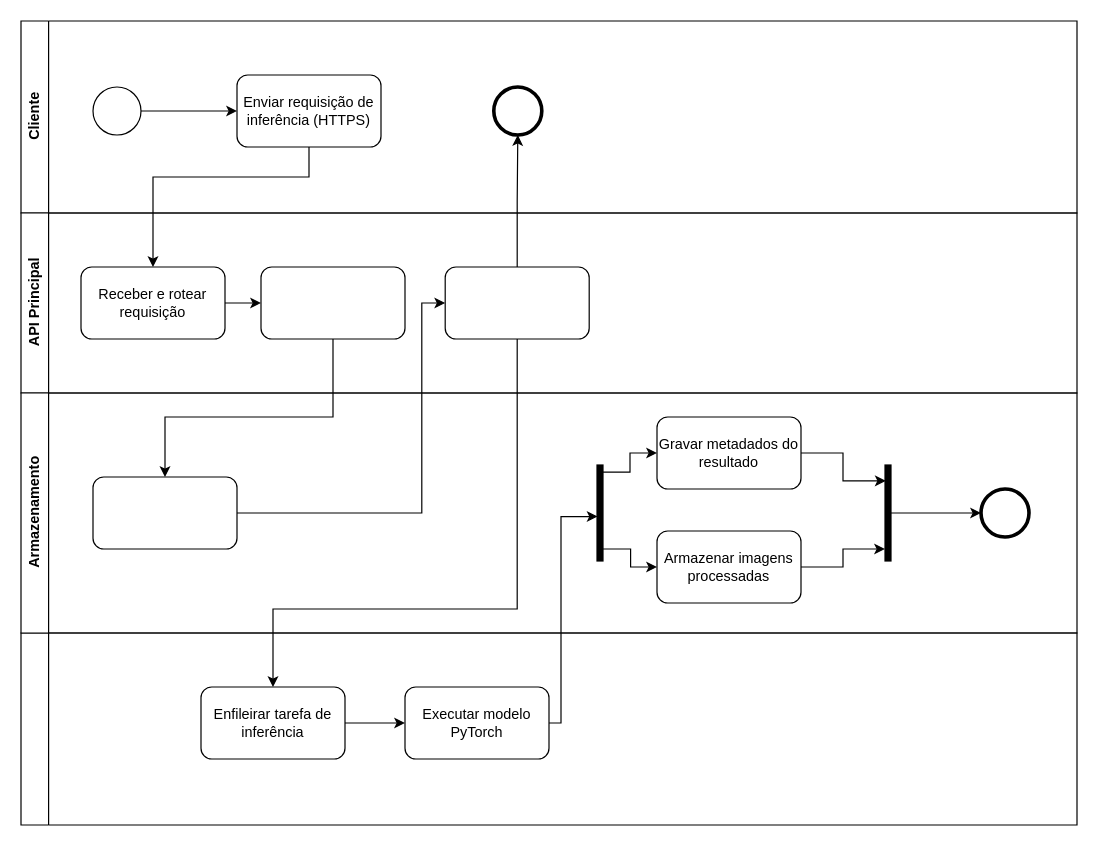
This 1098x846 diagram has some shape labels left out. Each missing label, with the box of its shape:
Acionar motor da IA: (444, 266, 589, 339)
Executar regras de negócio: (260, 266, 405, 339)
Motor de Inferência: (20, 632, 1077, 825)
Salvar dados transacionais: (92, 476, 237, 549)
